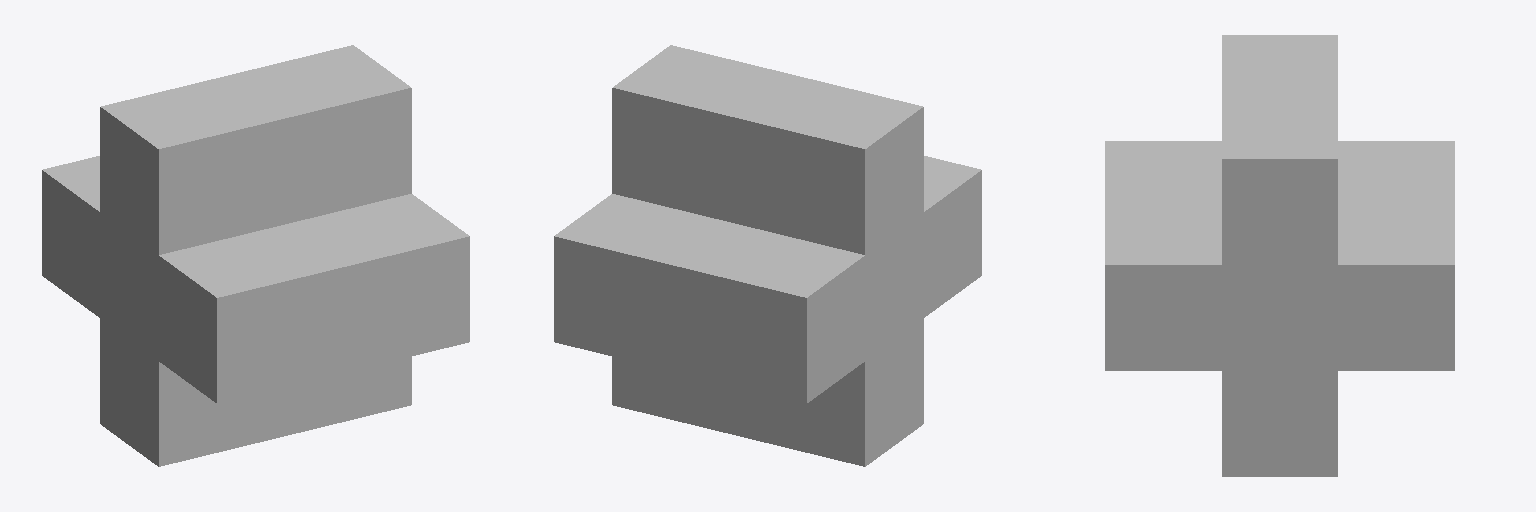
File: Ball1.obj
The picture shows the model from 3 angles: view 1: azimuth 30°, elevation 25°; view 2: azimuth 150°, elevation 25°; view 3: azimuth 270°, elevation 25°; orthographic projection.
Parts seen in each view (by area): view 1: pCube1 HP; view 2: pCube1 HP; view 3: pCube1 HP.
Boxes of the visible parts, x1=… form: pCube1 HP: x1=42, y1=45, x2=469, y2=466; pCube1 HP: x1=554, y1=45, x2=981, y2=466; pCube1 HP: x1=1105, y1=35, x2=1454, y2=476.
Bounding box in the file's own units: 2.5 × 3 × 3.